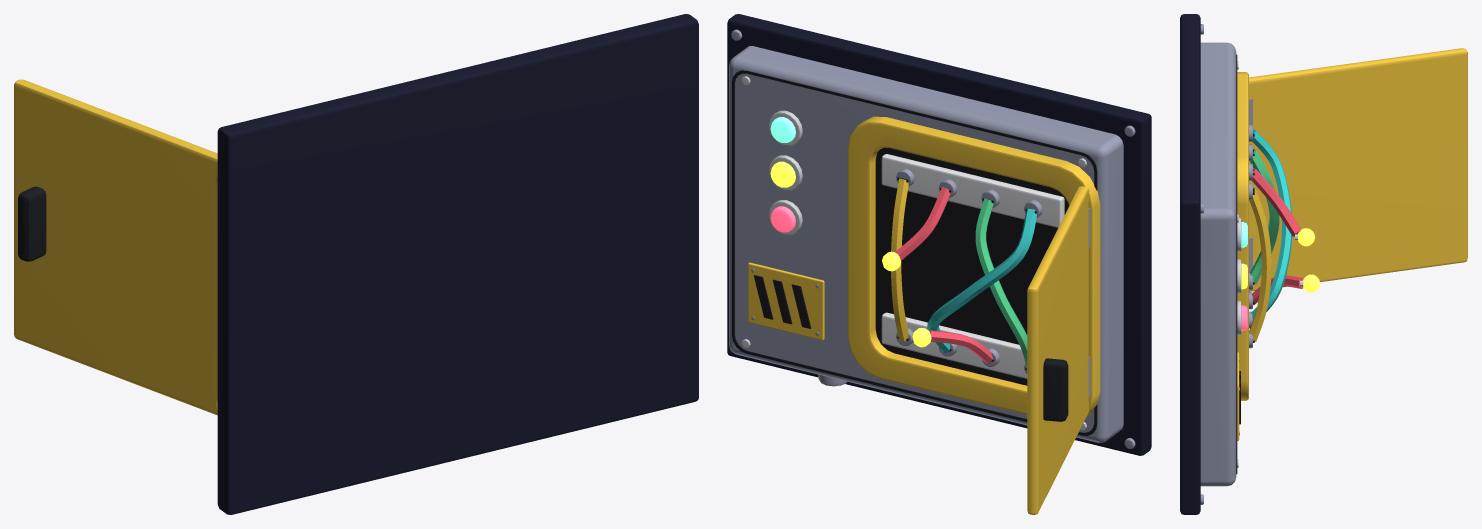
Rendered from task_panel.glb.
3 views of the same model, side by side, from view 1: azimuth 30°, elevation 25°; view 2: azimuth 150°, elevation 25°; view 3: azimuth 270°, elevation 25° (orthographic). The views are drawn at different scales.
Parts seen in each view (by area): view 1: Body; view 2: Body; view 3: Body.
Boxes of the visible parts, box(x1,y1,x2,y2) form: Body: box(14, 14, 698, 514); Body: box(727, 14, 1151, 514); Body: box(1180, 14, 1467, 514).
Size of the model in its own units: 0.9827 by 0.68 by 0.5639.
